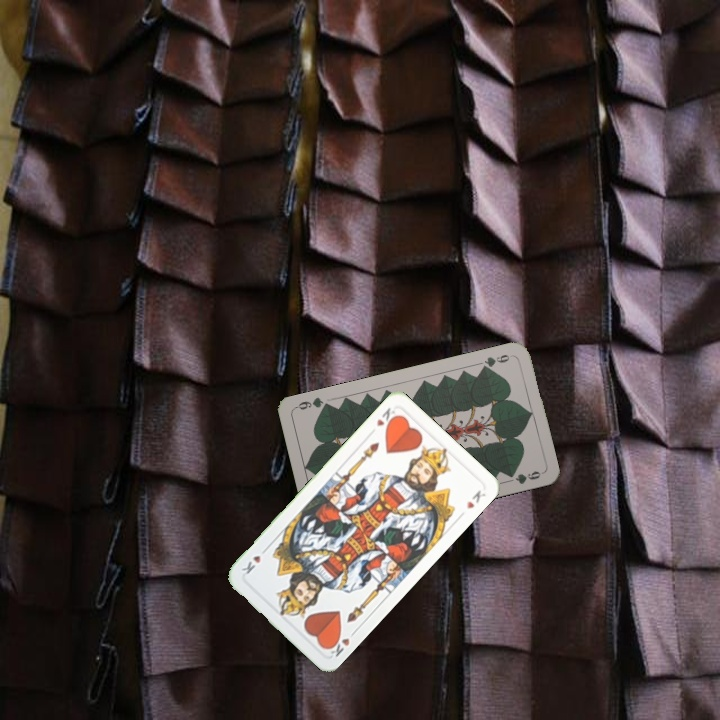G9: (475, 350, 515, 373)
HK: (323, 626, 359, 659), (372, 403, 400, 432)
